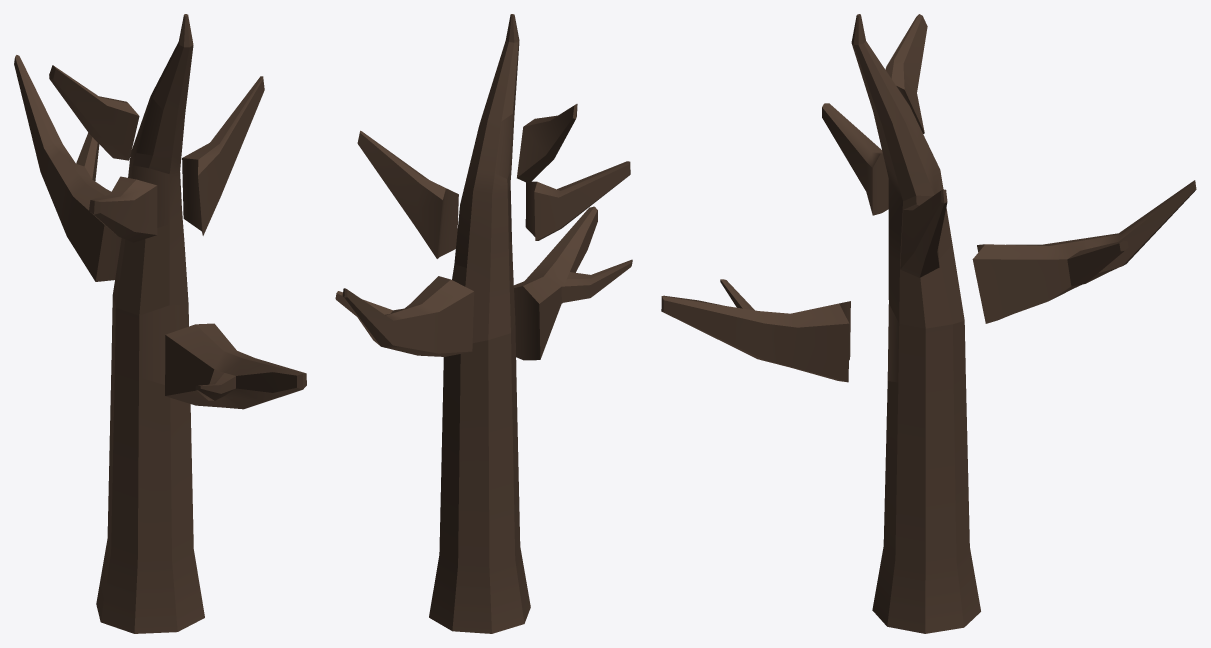
Rendered from DeadTree_Broken.fbx.
3 views of the same model, side by side, from view 1: azimuth 30°, elevation 25°; view 2: azimuth 150°, elevation 25°; view 3: azimuth 270°, elevation 25° (orthographic). The views are drawn at different scales.
Visible parts, largest first — view 1: polySurface1, polySurface2, polySurface4, polySurface3, polySurface5, polySurface6; view 2: polySurface1, polySurface2, polySurface4, polySurface3, polySurface6, polySurface5; view 3: polySurface1, polySurface2, polySurface4, polySurface6, polySurface3, polySurface5.
Boxes of the visible parts, x1=… form: polySurface1: x1=96, y1=14, x2=204, y2=633; polySurface2: x1=14, y1=55, x2=121, y2=281; polySurface4: x1=165, y1=323, x2=306, y2=409; polySurface3: x1=182, y1=76, x2=264, y2=235; polySurface5: x1=49, y1=65, x2=139, y2=160; polySurface6: x1=89, y1=176, x2=157, y2=242; polySurface1: x1=429, y1=14, x2=530, y2=633; polySurface2: x1=335, y1=276, x2=474, y2=356; polySurface4: x1=514, y1=206, x2=632, y2=360; polySurface3: x1=357, y1=130, x2=458, y2=258; polySurface6: x1=525, y1=161, x2=630, y2=240; polySurface5: x1=517, y1=104, x2=577, y2=183; polySurface1: x1=851, y1=14, x2=980, y2=633; polySurface2: x1=972, y1=180, x2=1196, y2=323; polySurface4: x1=661, y1=279, x2=850, y2=382; polySurface6: x1=822, y1=103, x2=888, y2=215; polySurface3: x1=900, y1=189, x2=947, y2=277; polySurface5: x1=885, y1=14, x2=927, y2=133.
Bounding box in the file's own units: 1.89 × 4.77 × 3.88.
